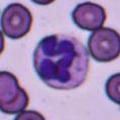N: (33, 33, 89, 90)
